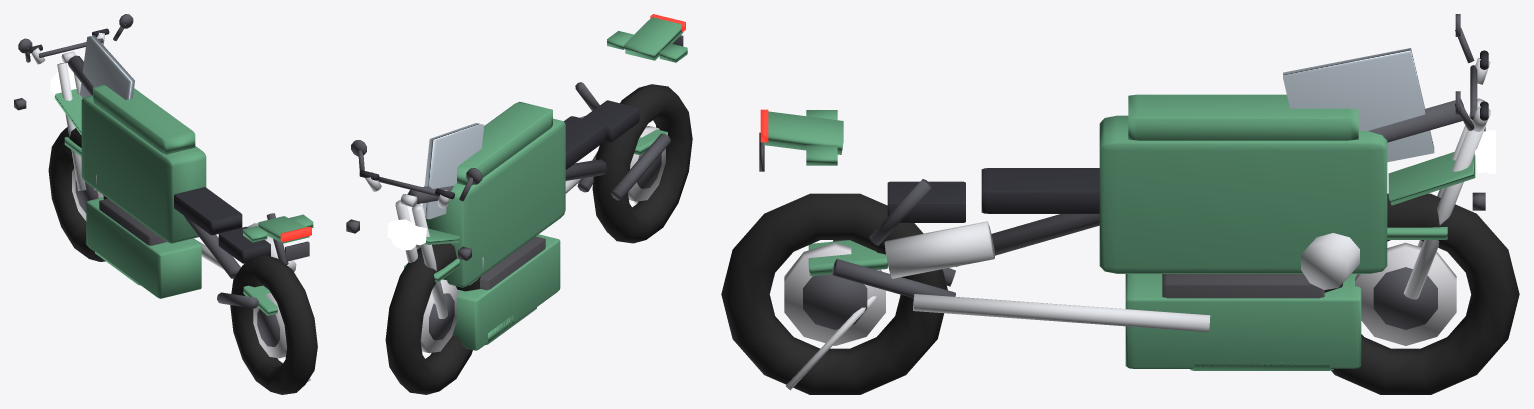
File: bike_adventure.glb
3 views of the same model, side by side, from view 1: azimuth 30°, elevation 25°; view 2: azimuth 150°, elevation 25°; view 3: azimuth 270°, elevation 25° (orthographic). The views are drawn at different scales.
Visible parts, largest first — view 1: Tank, Tire1, BellyFull, TankTop, Tire0, Seat, Screen, FrameMain, SeatRear, Engine, Fork-1, Rim1 (+10 smaller); view 2: Tank, Tire1, Tire0, BellyFull, TankTop, Screen, Tail, Seat, SeatRear, Engine, Swingarm_R, Rim0 (+14 smaller); view 3: Tank, Tire1, BellyFull, Tire0, TankTop, Screen, Seat, ExhPipe, Rim0, ExhCan, FrameMain, Engine (+14 smaller).
Part boxes in pixels (x1,y1,x2,y2): Tank: [81, 95, 206, 243]; Tire1: [230, 255, 317, 394]; BellyFull: [86, 197, 201, 298]; TankTop: [93, 85, 195, 154]; Tire0: [48, 127, 107, 261]; Seat: [174, 187, 242, 235]; Screen: [80, 35, 134, 99]; FrameMain: [67, 55, 240, 278]; SeatRear: [218, 226, 270, 263]; Engine: [99, 198, 166, 245]; Fork-1: [57, 63, 86, 190]; Rim1: [253, 293, 286, 358]; Tank: [424, 118, 565, 287]; Tire1: [592, 84, 692, 243]; Tire0: [385, 243, 480, 394]; BellyFull: [452, 234, 560, 350]; TankTop: [457, 101, 552, 185]; Screen: [422, 123, 484, 219]; Tail: [624, 17, 683, 60]; Seat: [564, 116, 606, 169]; SeatRear: [582, 100, 639, 142]; Engine: [479, 236, 545, 290]; Swingarm_R: [611, 133, 670, 200]; Rim0: [420, 279, 458, 353]; Tank: [1099, 115, 1387, 273]; Tire1: [721, 193, 947, 394]; BellyFull: [1125, 274, 1361, 368]; Tire0: [1324, 193, 1519, 394]; TankTop: [1128, 94, 1358, 140]; Screen: [1283, 48, 1434, 162]; Seat: [981, 168, 1099, 213]; ExhPipe: [913, 294, 1210, 332]; Rim0: [1355, 242, 1456, 345]; ExhCan: [884, 221, 994, 278]; FrameMain: [955, 99, 1464, 266]; Engine: [1162, 274, 1324, 298].
Size of the model in its own units: 0.7856 by 1.45 by 3.05.
